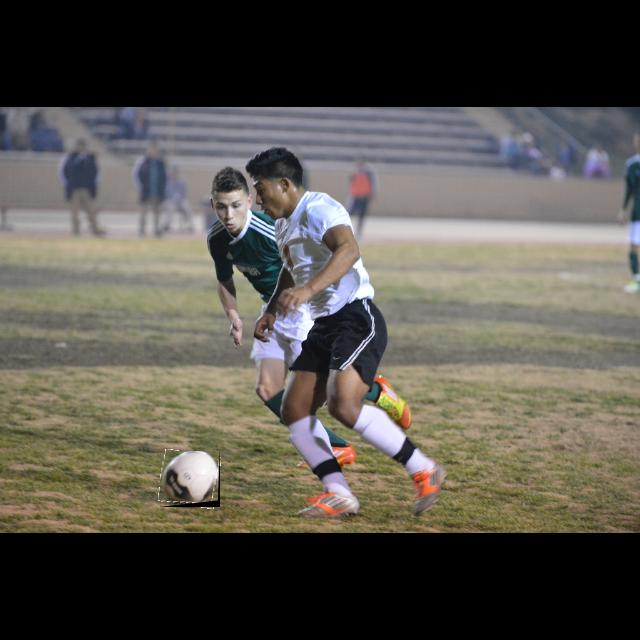Football: (160, 451, 220, 507)
